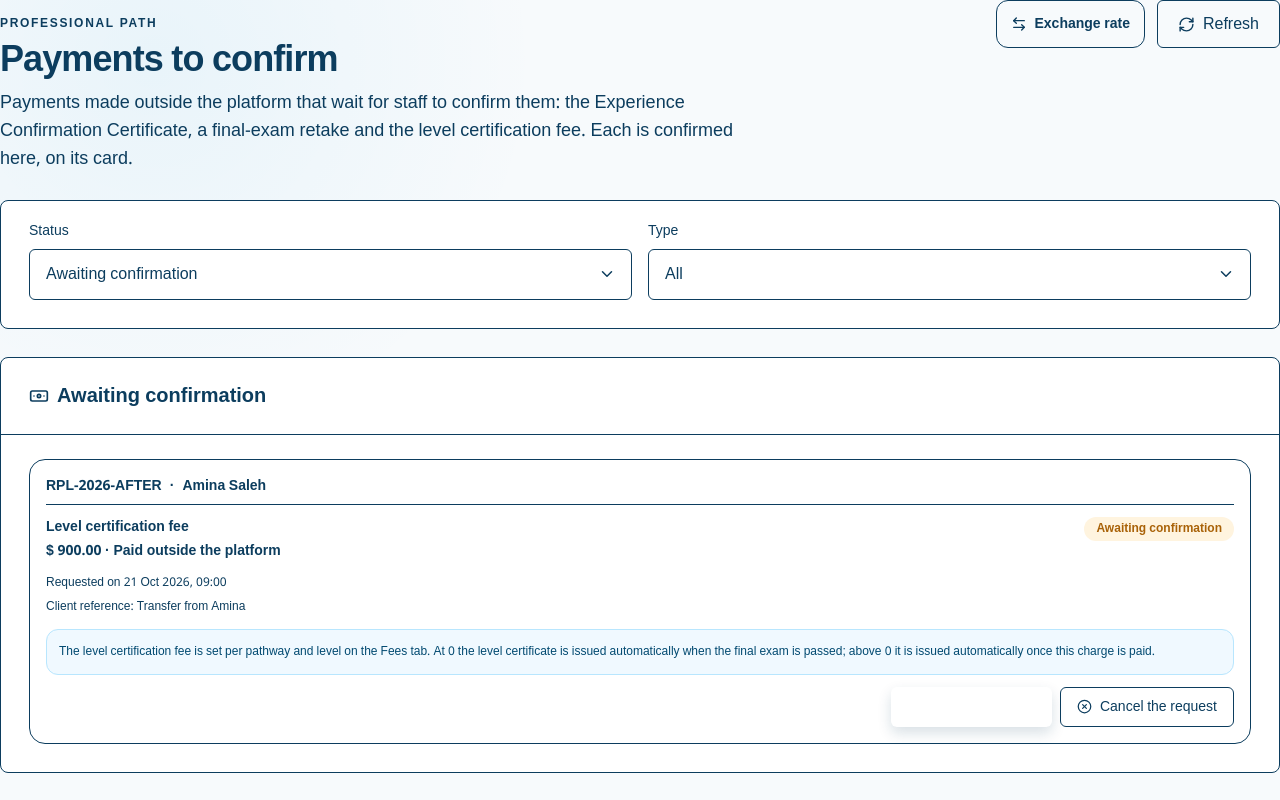
Test: the payments queue (S1), acted on in the row › says a stale payment was changed by someone else
Click the button "Confirm payment" at (971, 707), box [891,687,1052,727]
(page scrolled)
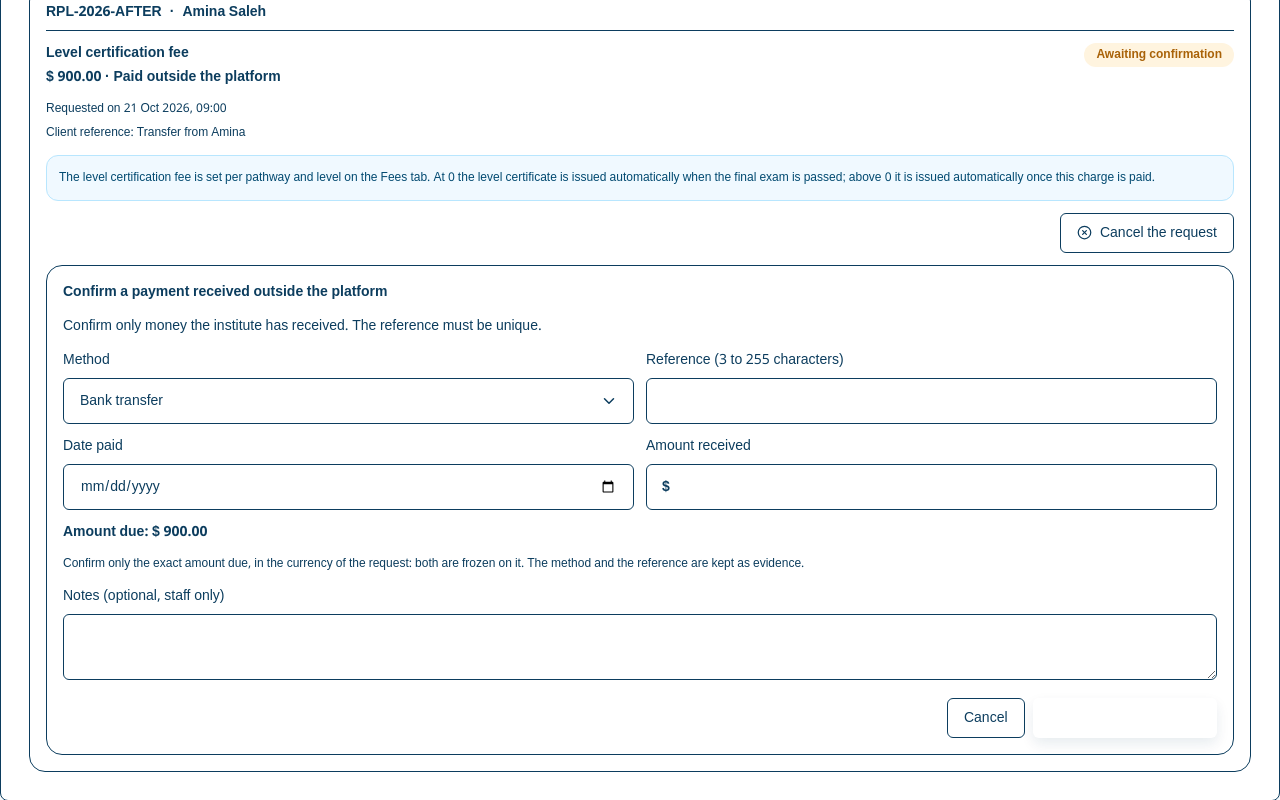
Type "TRX-1" into the field labelled "Reference (3 to 255 characters)" at (932, 401), box [646,378,1217,424]
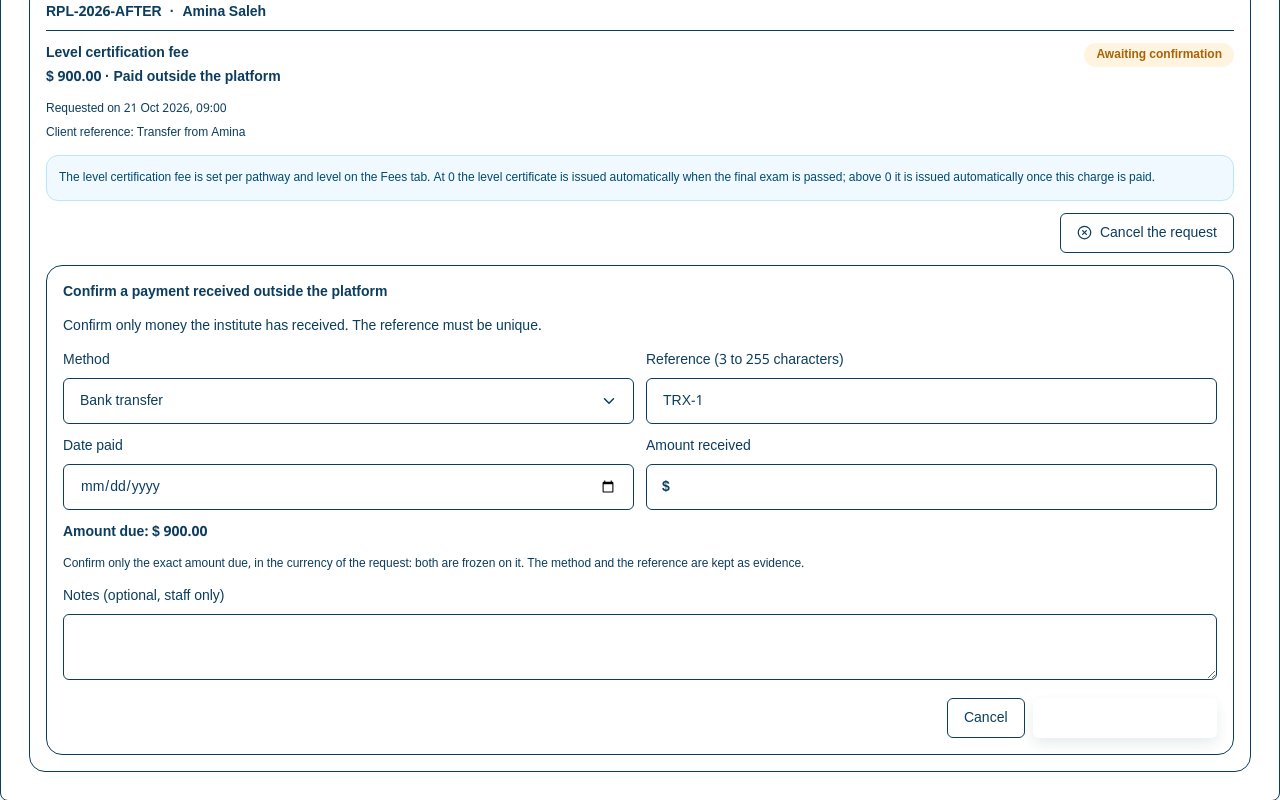
Type "2026-01-05" into the date field labelled "Date paid" at (348, 487), box [63,464,634,510]
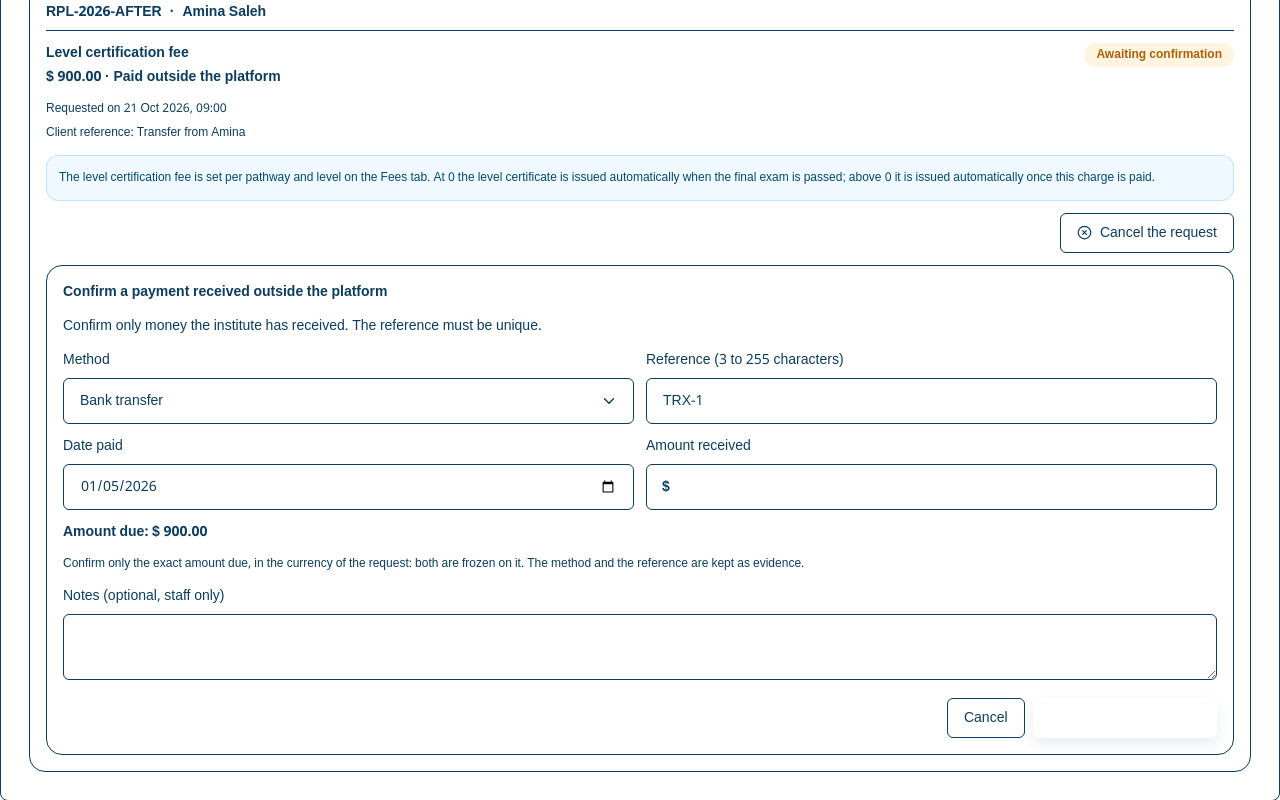
Type "900" into the field labelled "Amount received" at (932, 487), box [646,464,1217,510]
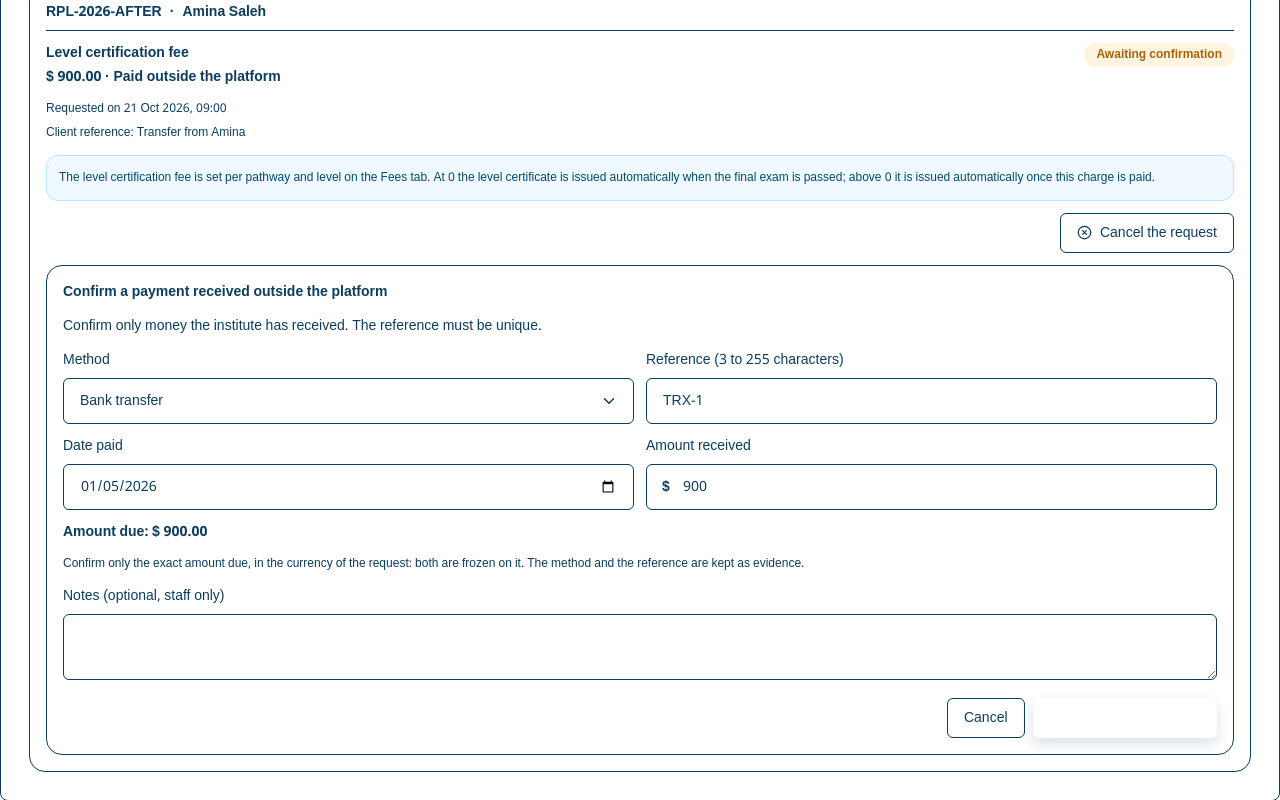
Click the button "Confirm the payment" at (1125, 718), box [1032,698,1217,738]
(page scrolled)
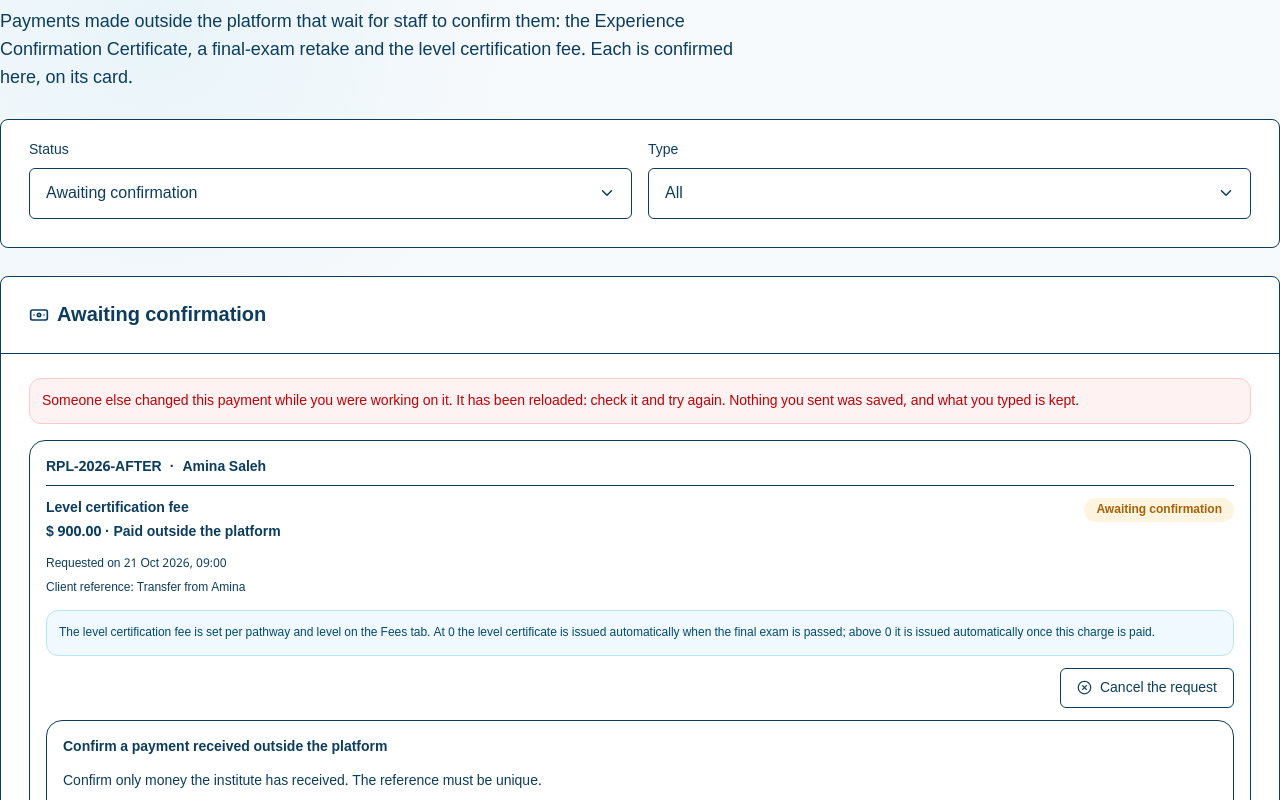
Check: the text "Someone else changed this payment while you were working on it. It has been reloaded: check it and try again. Nothing yo" is shown, box [42,386,1079,415]
